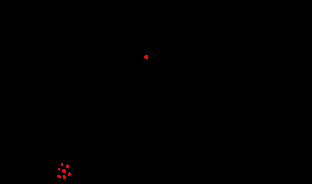Target: (144, 55, 148, 59), (62, 169, 66, 173), (66, 164, 69, 168), (68, 172, 71, 176), (57, 175, 61, 178), (63, 175, 66, 179), (61, 163, 63, 166), (58, 168, 60, 171)
